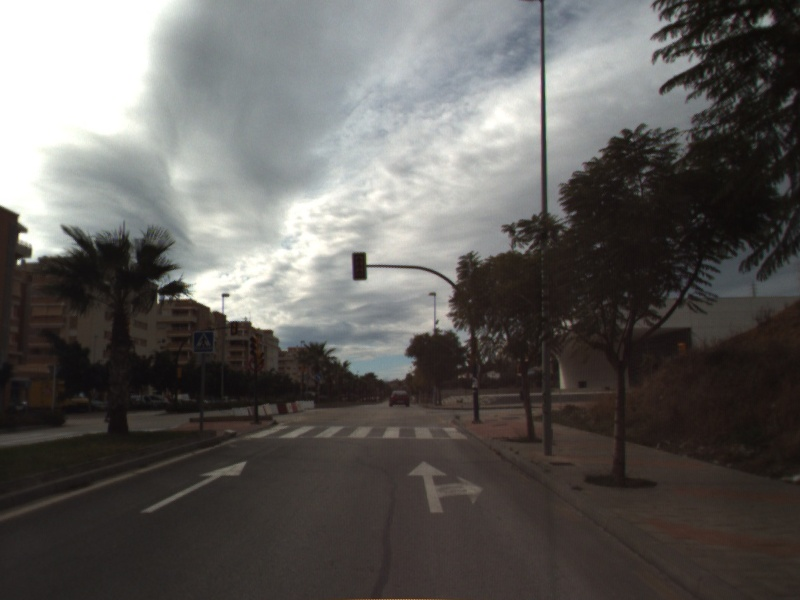STRAIGHT: (138, 459, 249, 515)
STRAIGHT_RIGHT: (405, 459, 485, 515)
